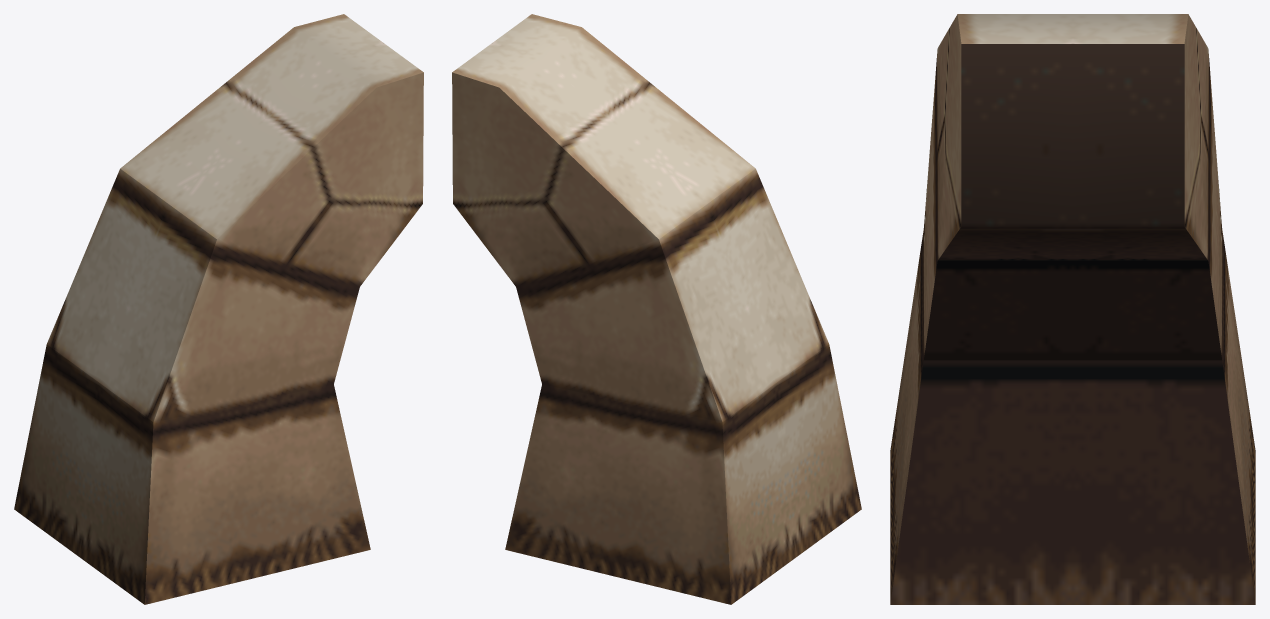
The model's file is cj_shitouyiji1.fbx.
The picture shows the model from 3 angles, left to right: view 1: azimuth 30°, elevation 25°; view 2: azimuth 150°, elevation 25°; view 3: azimuth 270°, elevation 25°; orthographic projection. The views are drawn at different scales.
Visible parts, largest first — view 1: cj_shitouyiji1; view 2: cj_shitouyiji1; view 3: cj_shitouyiji1.
Part boxes in pixels (left/top/right/bottom): cj_shitouyiji1: left=14, top=14, right=423, bottom=604; cj_shitouyiji1: left=452, top=14, right=861, bottom=604; cj_shitouyiji1: left=890, top=14, right=1255, bottom=604.
Bounding box in the file's own units: 725 × 1000 × 539.
